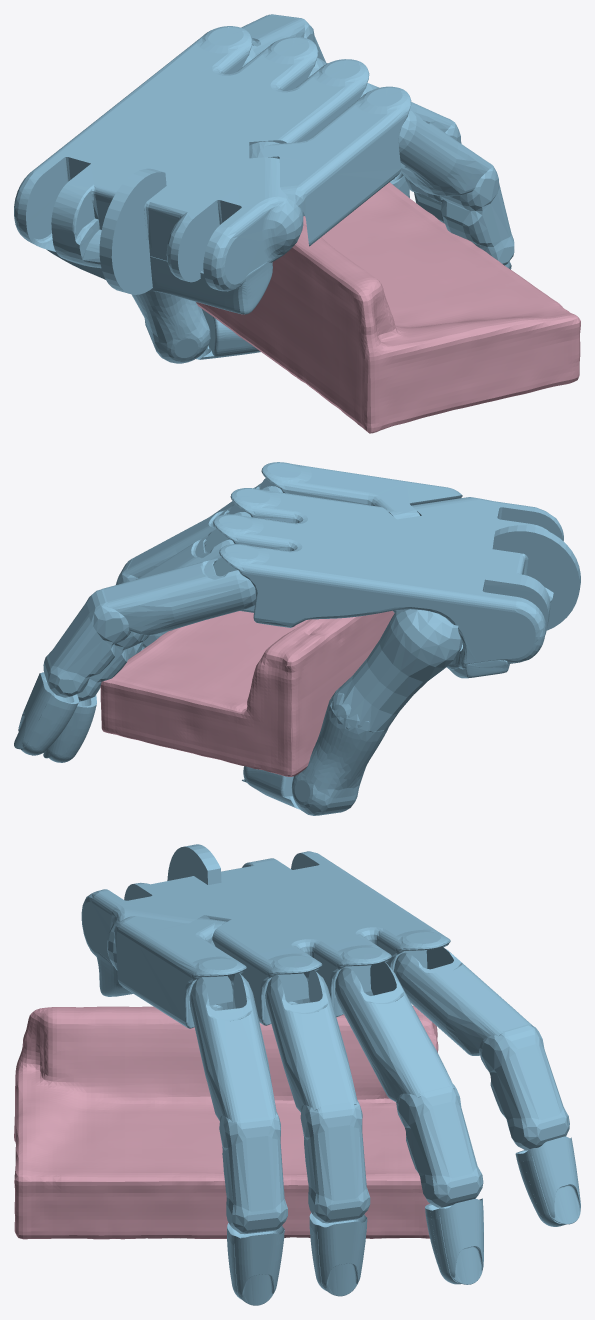
3 renders of one model, top to bottom at view 1: azimuth 30°, elevation 25°; view 2: azimuth 150°, elevation 25°; view 3: azimuth 270°, elevation 25°, orthographic. The views are drawn at different scales.
Visible parts, largest first — view 1: hand_isaac_q, world; view 2: hand_isaac_q, world; view 3: hand_isaac_q, world.
Part boxes in pixels (left/top/right/bottom): hand_isaac_q: left=14, top=14, right=514, bottom=363; world: left=196, top=182, right=580, bottom=433; hand_isaac_q: left=14, top=462, right=580, bottom=815; world: left=100, top=611, right=394, bottom=776; hand_isaac_q: left=81, top=844, right=580, bottom=1305; world: left=14, top=1005, right=438, bottom=1239.
Size of the model in its own units: 0.1676 by 0.0992 by 0.1761.
